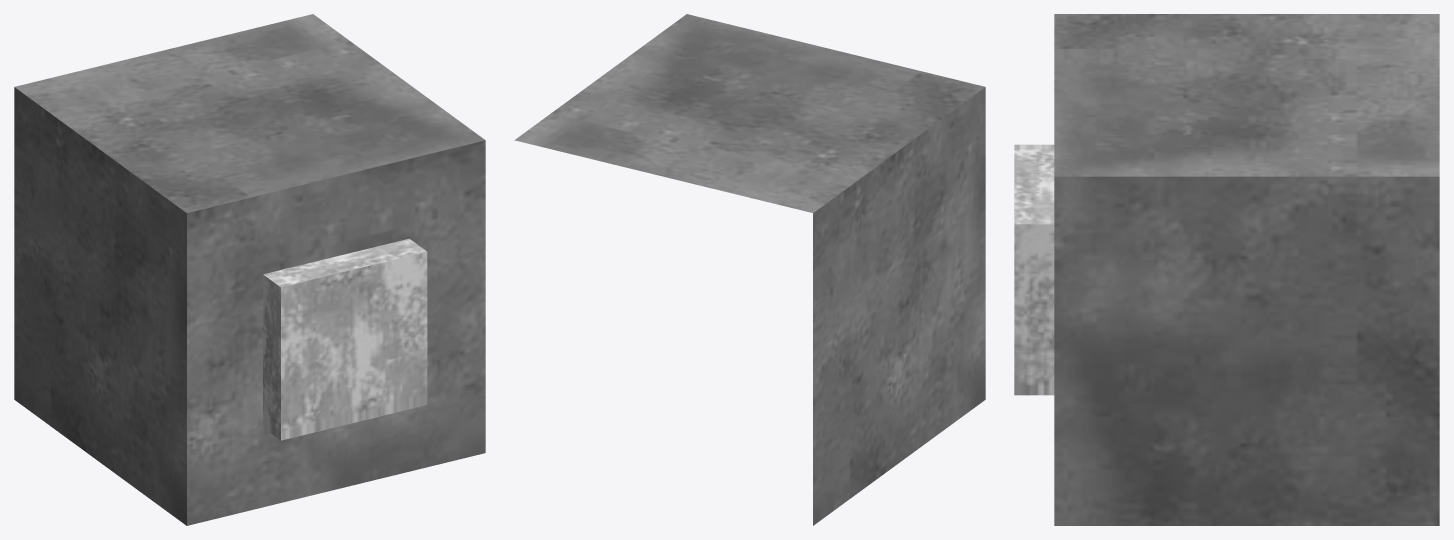
Rendered from lock break.glb.
3 renders of one model, left to right at view 1: azimuth 30°, elevation 25°; view 2: azimuth 150°, elevation 25°; view 3: azimuth 270°, elevation 25°, orthographic. The views are drawn at different scales.
Visible parts, largest first — view 1: Cube_002; view 2: Cube_002; view 3: Cube_002.
Boxes of the visible parts, box(x1,y1,x2,y2) form: Cube_002: box(14, 14, 485, 525); Cube_002: box(514, 14, 985, 525); Cube_002: box(1014, 14, 1439, 525).
Size of the model in its own units: 0.1241 by 0.1241 by 0.1369.
Materials: 2 (2 with a texture image).
